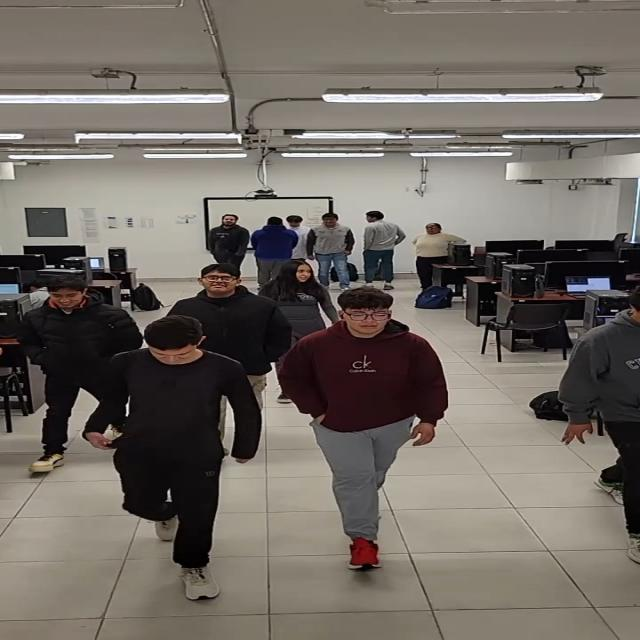Persona: (296, 287, 441, 547), (106, 318, 246, 570), (32, 277, 107, 437), (182, 257, 276, 349), (269, 258, 324, 339), (362, 207, 398, 284), (316, 212, 353, 280), (407, 224, 455, 274), (212, 212, 246, 266), (260, 217, 288, 264), (290, 213, 314, 258)
